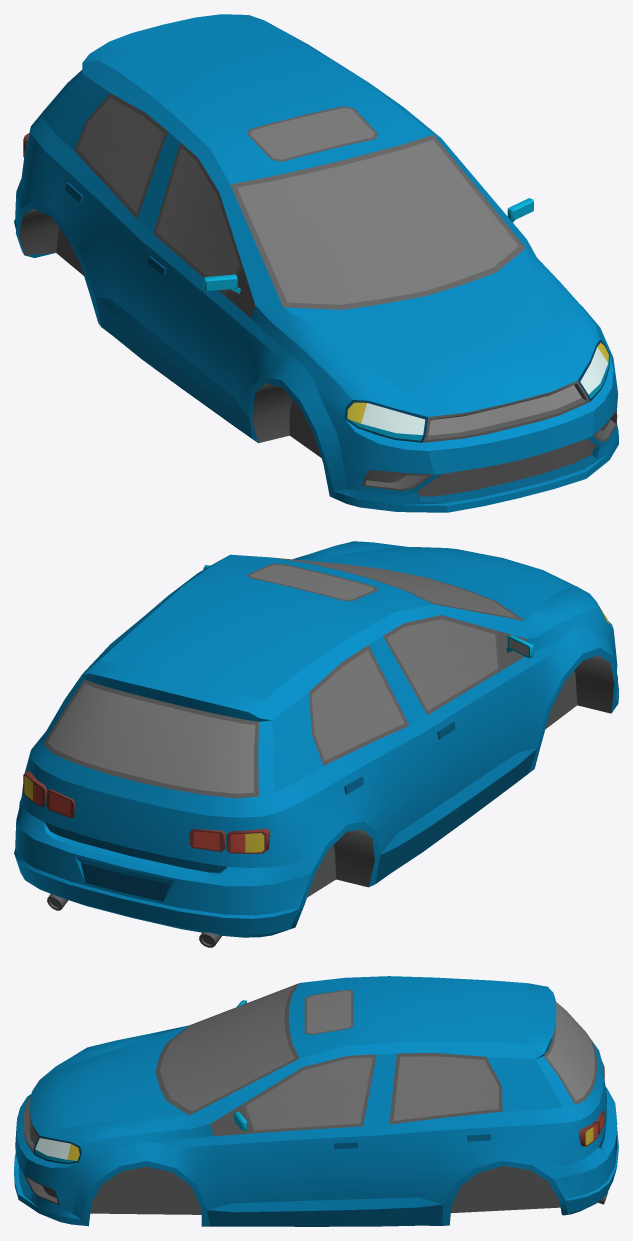
The model's file is GolfEdt.fbx.
3 views of the same model, one above another, from view 1: azimuth 30°, elevation 25°; view 2: azimuth 150°, elevation 25°; view 3: azimuth 270°, elevation 25° (orthographic). The views are drawn at different scales.
Parts seen in each view (by area): view 1: Body_LOD00; view 2: Body_LOD00; view 3: Body_LOD00.
Part boxes in pixels (x1,y1,x2,y2): Body_LOD00: (14,14,618,512); Body_LOD00: (14,541,618,947); Body_LOD00: (14,976,618,1226).
Size of what is drawn, in the model's own units: 196 by 127 by 409.
